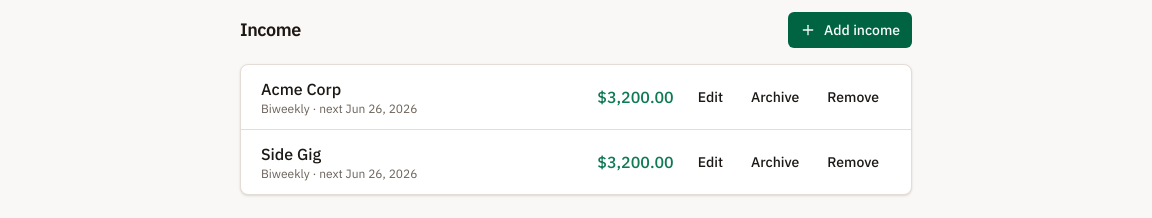
IncomeView › after a removal focus moves to the nearest surviving row, not the page body
Click the button with aria-label "remove side gig" at (853, 162), box [815,144,891,180]
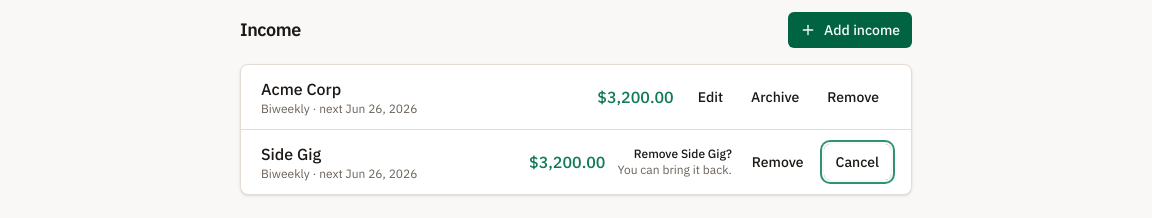
Click the button with aria-label "confirm remove side gig" at (778, 162), box [740,144,816,180]
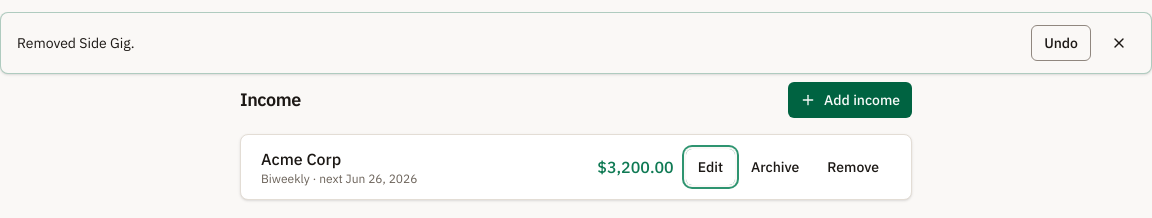
Expected: the element named "Notifications" is shown, [0,12,1151,74]
